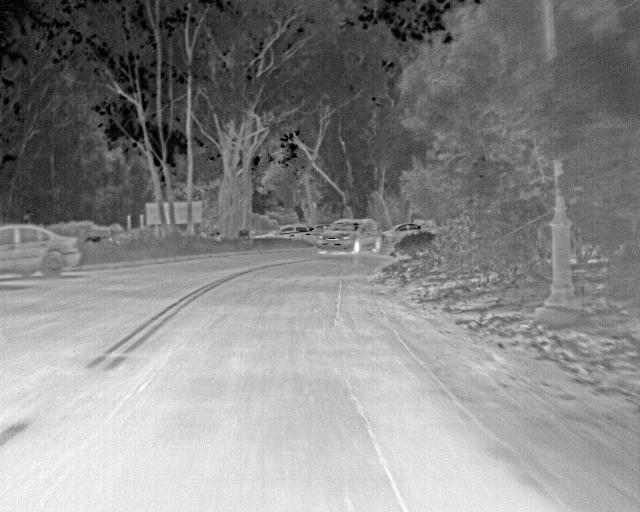car: (0, 222, 83, 279), (315, 217, 382, 254), (252, 222, 311, 241), (382, 221, 421, 244), (301, 224, 331, 244)
